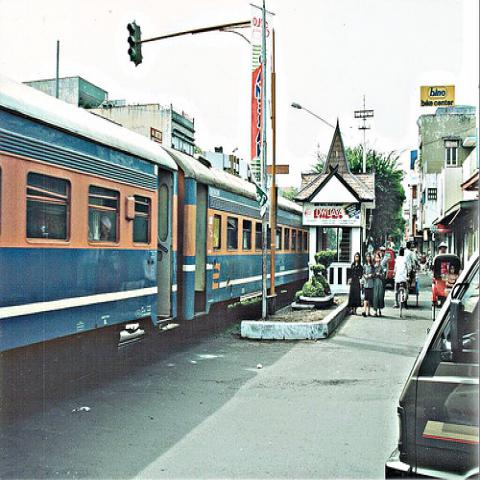car: (384, 250, 480, 480), (385, 250, 397, 286)
